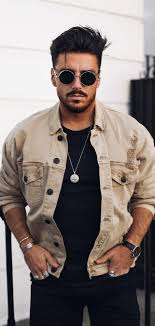g.y: (58, 63, 77, 89)
